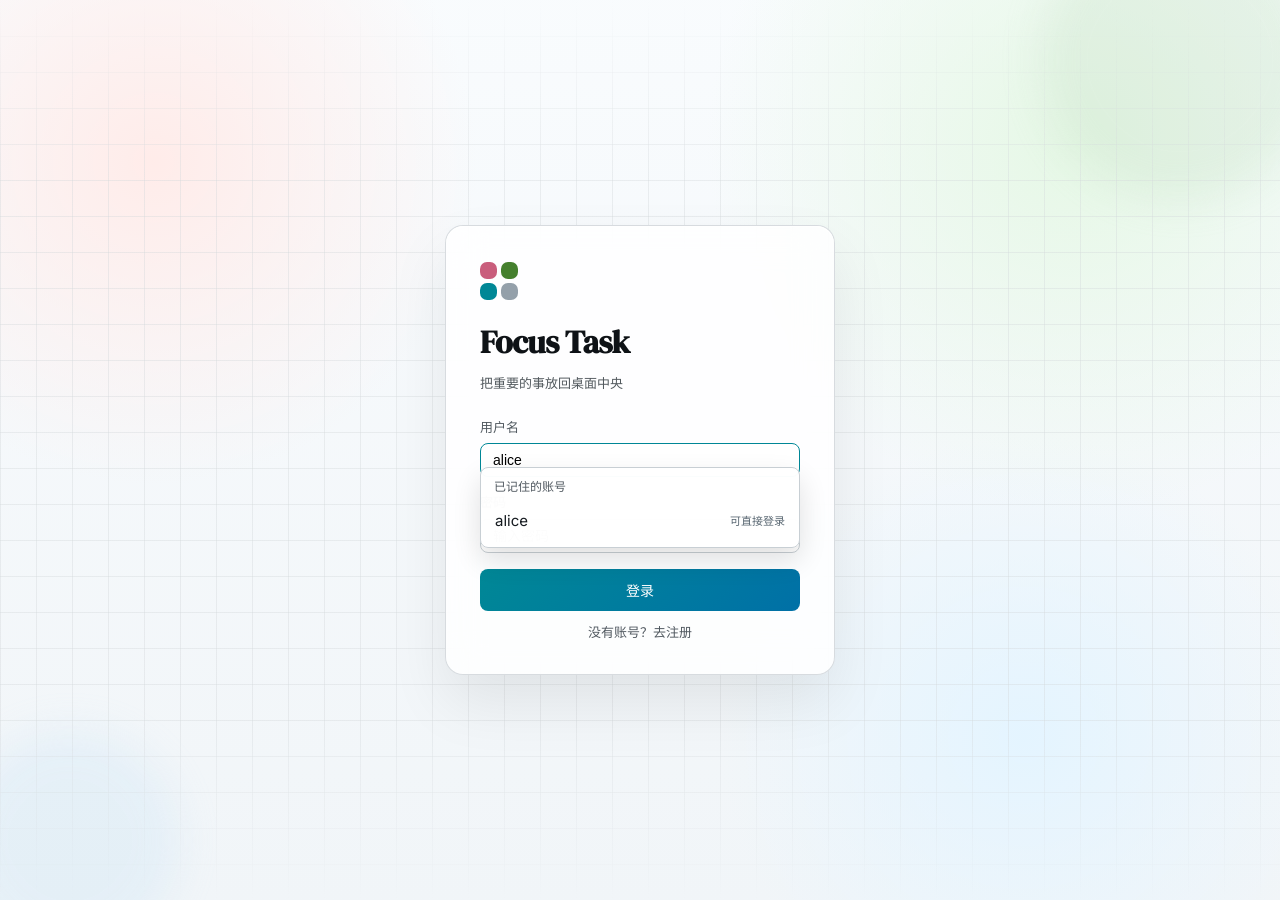
Test case: 登录页已记住账号选择 › 已保存会话失效时保留所选用户名并把焦点放到密码框
The image size is (1280, 900).
Click the option "alice 可直接登录": (512, 520) [487, 502, 793, 540]
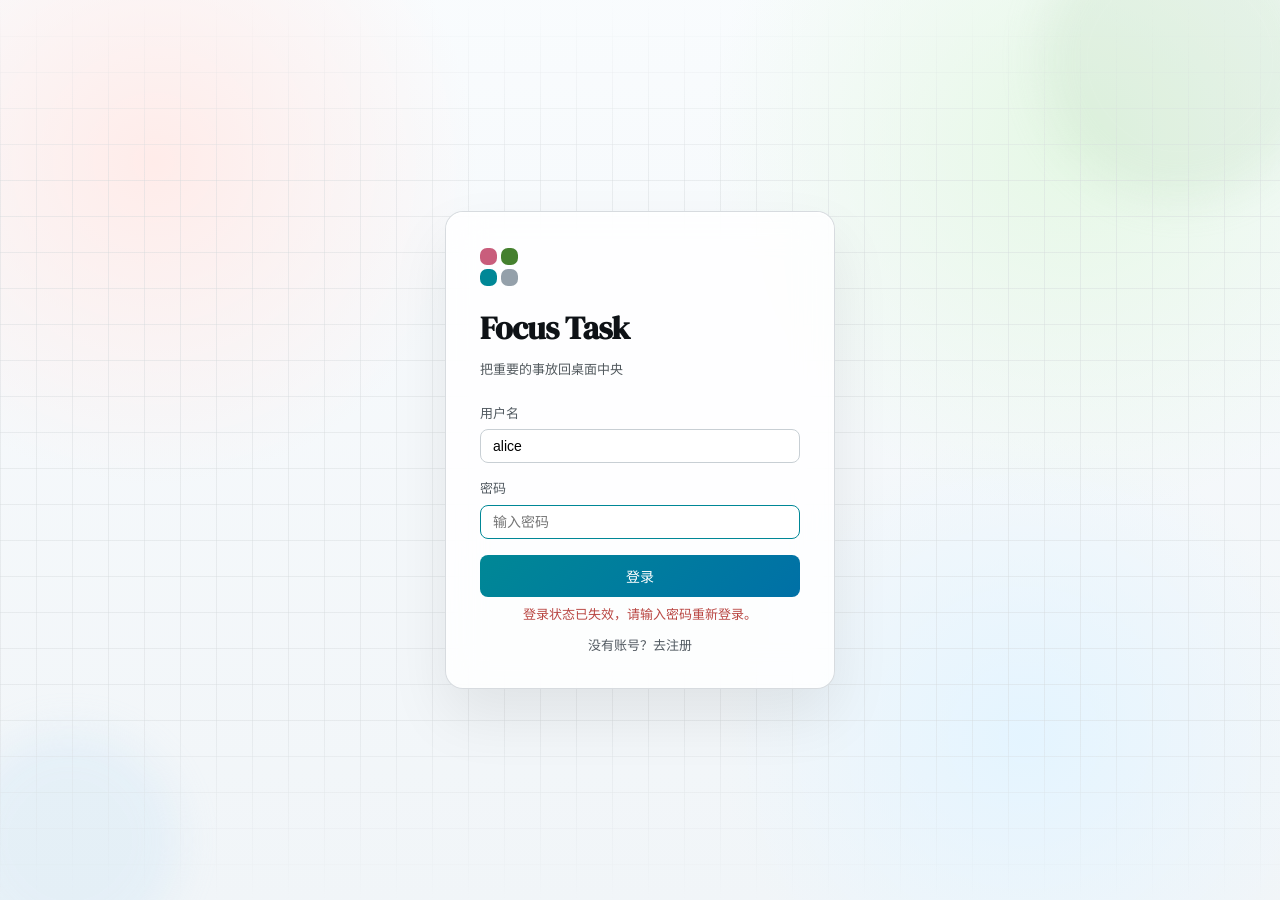
Expected: the field with id "login-username" holds "alice", [480, 429, 800, 463]
Now the text "登录状态已失效，请输入密码重新登录。" is shown, box [523, 606, 757, 622]
